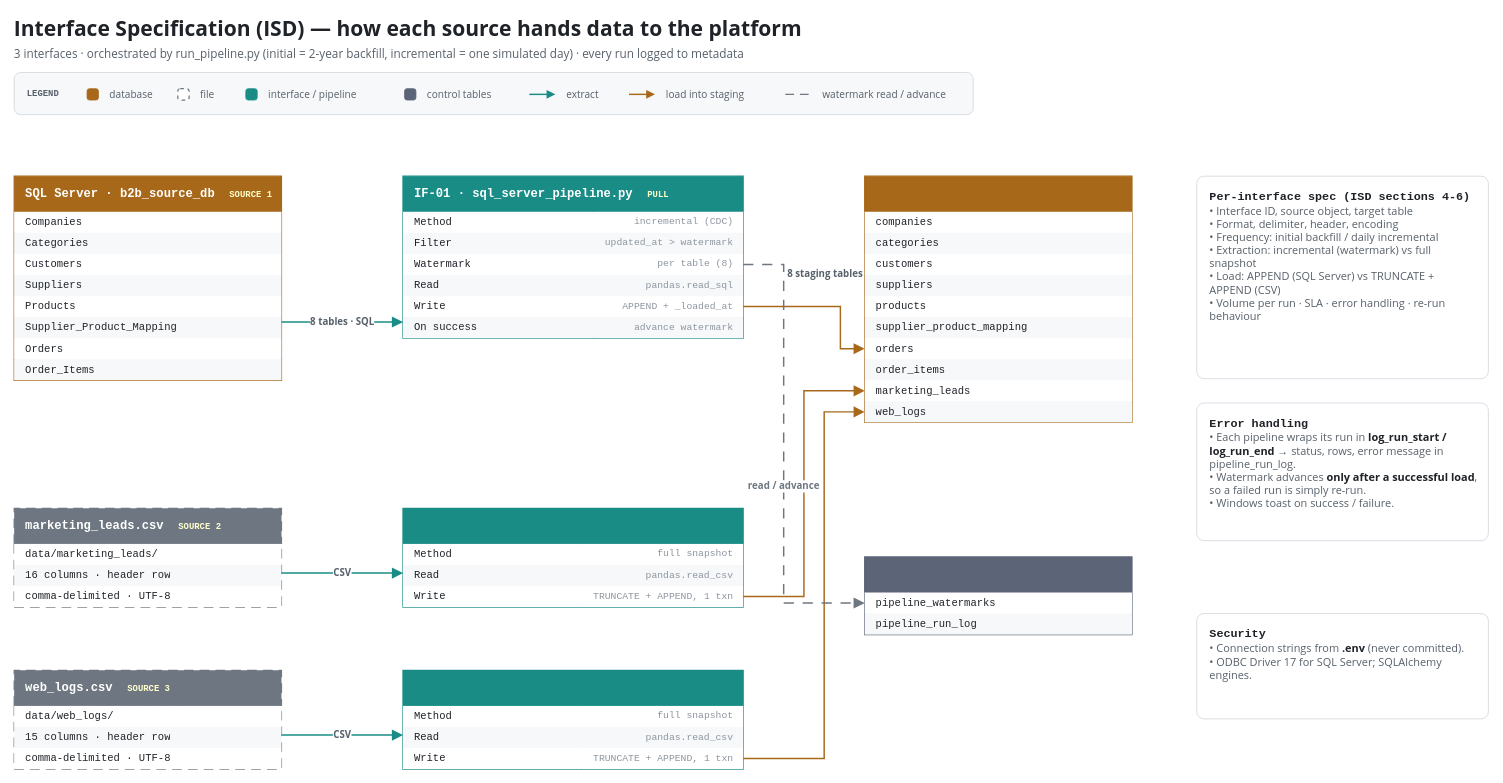
This 1503x783 diagram has some shape labels left out. Each missing label, with the box of its shape:
IF-02 · marketing_leads_pipeline.py FILE: (402, 507, 743, 607)
IF-03 · web_logs_pipeline.py FILE: (402, 669, 743, 769)
PostgreSQL · metadata CONTROL: (864, 556, 1132, 635)
PostgreSQL · staging CLEARED EACH RUN: (864, 175, 1132, 423)
